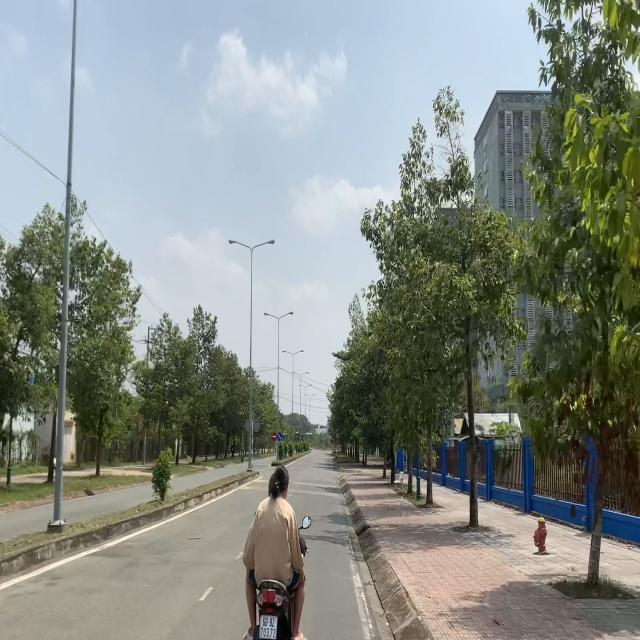Cam nguoc chieu: (272, 432, 277, 441)
Hieu lenh: (277, 432, 282, 442)
